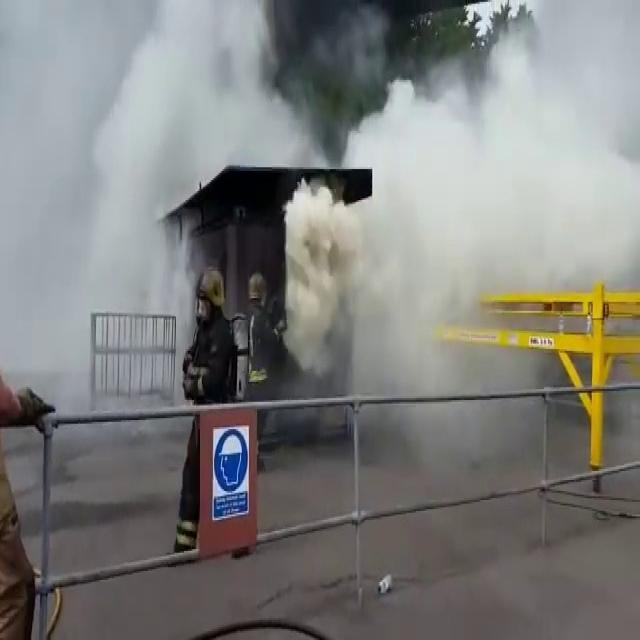Smoke: (360, 31, 640, 396), (16, 0, 198, 293), (286, 195, 352, 365)
